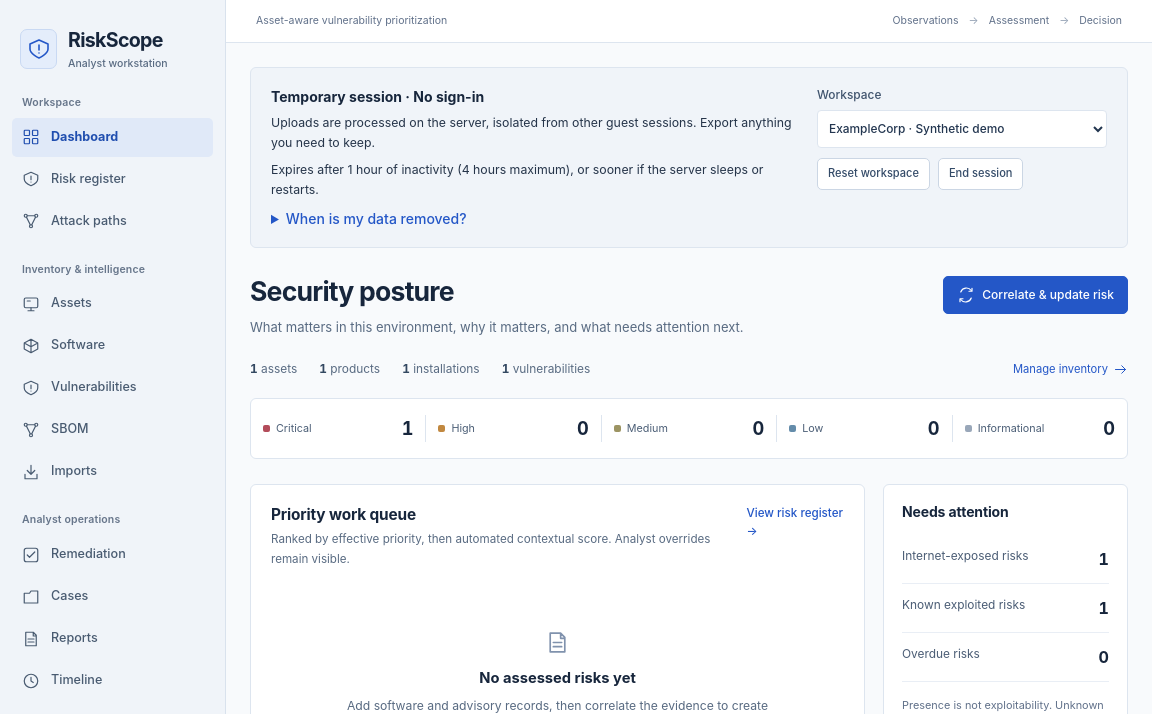
anonymous temporary workspaces › requires confirmation before ending and deletes the saved capability
This screenshot has width=1152, height=714.
Click the button "End session" at (981, 174), box [938,158,1023,190]
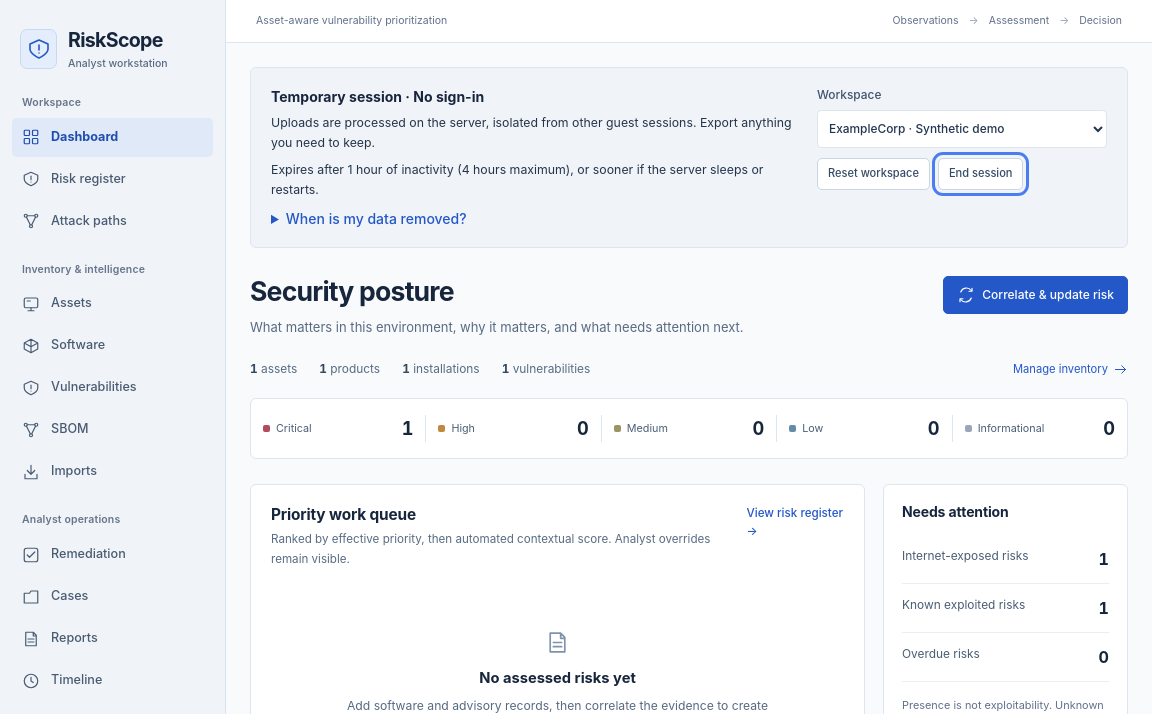
Click the button "End session" at (981, 174), box [938,158,1023,190]
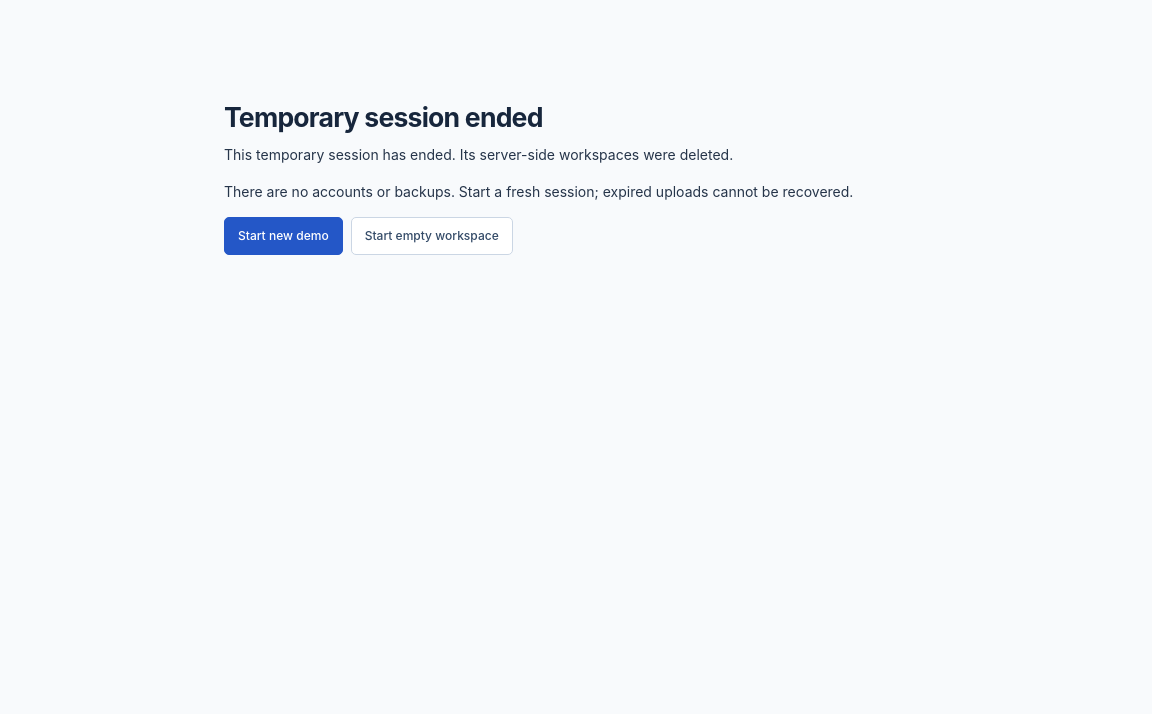
Expected: the heading "Temporary session ended" is shown, [224,101,543,133]
